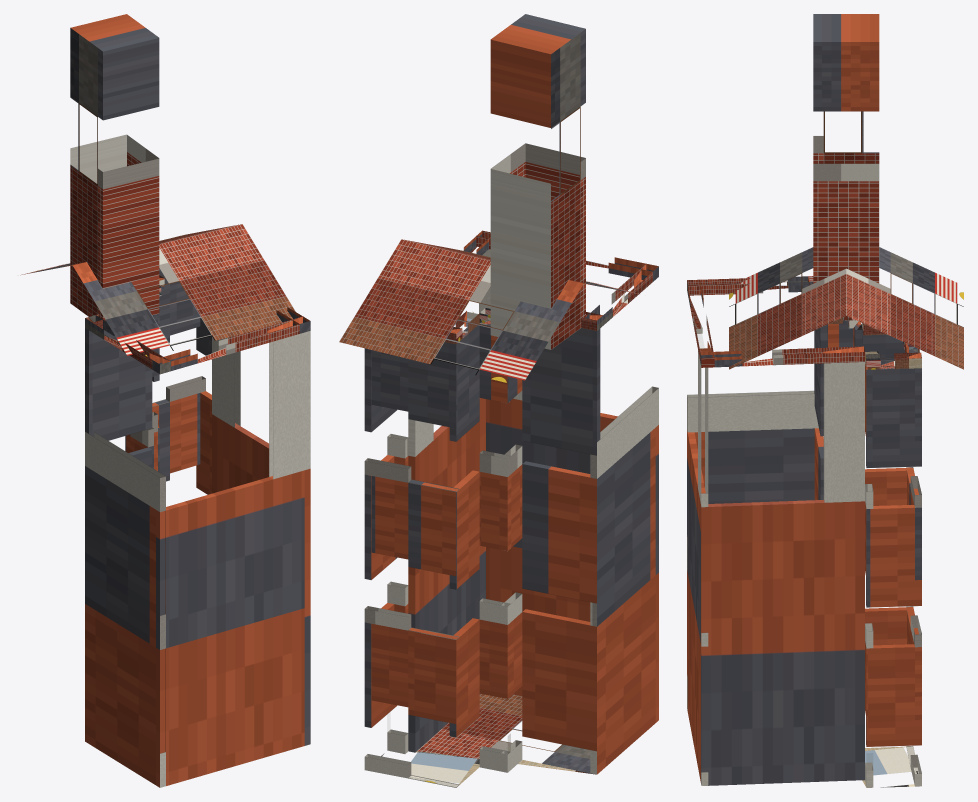
The picture shows the model from 3 angles, left to right: view 1: azimuth 30°, elevation 25°; view 2: azimuth 150°, elevation 25°; view 3: azimuth 270°, elevation 25°; orthographic projection. The views are drawn at different scales.
Parts seen in each view (by area): view 1: 1132023207__wall_5_xb, 1132023207__wall_4_xb, 1132023207__chimney_0_xb, 1132023207_roof_-1_xb, 1132023207__wall_6_xb, 1132023207__wall_3_xb, 1132023207__wall_9_xb, 1132023207__cornice_5, 1132023207__wall_8_xb, 1132023207__wall_10_xb, 1132023207__cornice_4, 1132023207__wall_2_xb; view 2: 1132023207__wall_3_xb, 1132023207__chimney_0_xb, 1132023207__wall_4_xb, 1132023207_roof_1_xb, 1132023207__wall_10_xb, 1132023207__wall_9_xb, 1132023207__wall_6_xb, 1132023207__wall_5_xb, 1132023207__wall_0_xb, 1132023207__wall_1_xb, 1132023207__base, 1132023207__wall_2_xb (+4 smaller); view 3: 1132023207__wall_6_xb, 1132023207__wall_8_xb, 1132023207__chimney_0_xb, 1132023207__wall_4_xb, 1132023207_roof_1_xb, 1132023207_roof_-1_xb, 1132023207__wall_5_xb, 1132023207__wall_0_xb, 1132023207__wall_9_xb, 1132023207__cornice_6, 1132023207__wall_3_xb, 1132023207__cornice_4 (+5 smaller).
Part boxes in pixels (x1,y1,x2,y2): 1132023207__wall_5_xb: (156,331,310,787); 1132023207__wall_4_xb: (85,432,165,787); 1132023207__chimney_0_xb: (70,14,159,319); 1132023207_roof_-1_xb: (72,224,295,356); 1132023207__wall_6_xb: (212,335,310,745); 1132023207__wall_3_xb: (85,328,152,467); 1132023207__wall_9_xb: (166,281,205,473); 1132023207__cornice_5: (152,316,302,373); 1132023207__wall_8_xb: (196,318,211,494); 1132023207__wall_10_xb: (152,268,169,481); 1132023207__cornice_4: (85,315,170,374); 1132023207__wall_2_xb: (130,315,153,468); 1132023207__wall_3_xb: (522,328,600,751); 1132023207__chimney_0_xb: (490,14,585,349); 1132023207__wall_4_xb: (590,386,658,774); 1132023207_roof_1_xb: (339,239,583,382); 1132023207__wall_10_xb: (408,342,459,787); 1132023207__wall_9_xb: (364,350,411,778); 1132023207__wall_6_xb: (408,398,485,752); 1132023207__wall_5_xb: (479,249,658,722); 1132023207__wall_0_xb: (449,324,479,737); 1132023207__wall_1_xb: (479,321,510,772); 1132023207__base: (381,693,595,785); 1132023207__wall_2_xb: (501,376,522,772); 1132023207__wall_6_xb: (701,362,864,785); 1132023207__wall_8_xb: (866,367,921,746); 1132023207__chimney_0_xb: (813,14,879,320); 1132023207__wall_4_xb: (687,391,818,710); 1132023207_roof_1_xb: (846,247,963,369); 1132023207_roof_-1_xb: (729,247,846,369); 1132023207__wall_5_xb: (687,348,708,785); 1132023207__wall_0_xb: (862,330,913,645); 1132023207__wall_9_xb: (910,349,921,786); 1132023207__cornice_6: (700,346,864,367); 1132023207__wall_3_xb: (814,324,827,500); 1132023207__cornice_4: (687,276,813,295).
Bounding box in the file's own units: 0.4518 × 1.75 × 0.6301.
1 material, 1 textured.
